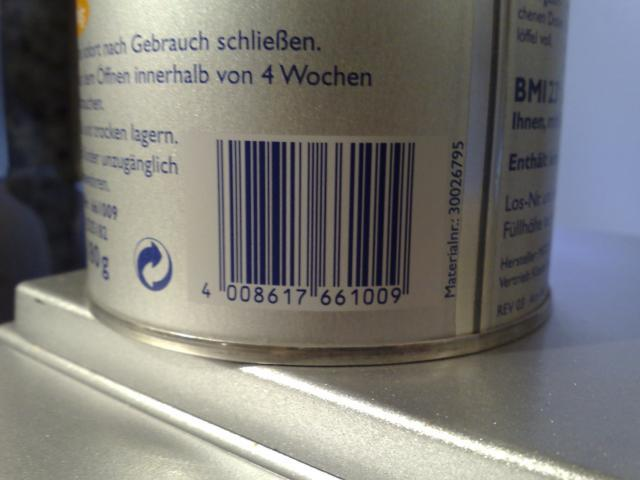Barcode: (190, 129, 429, 314)
